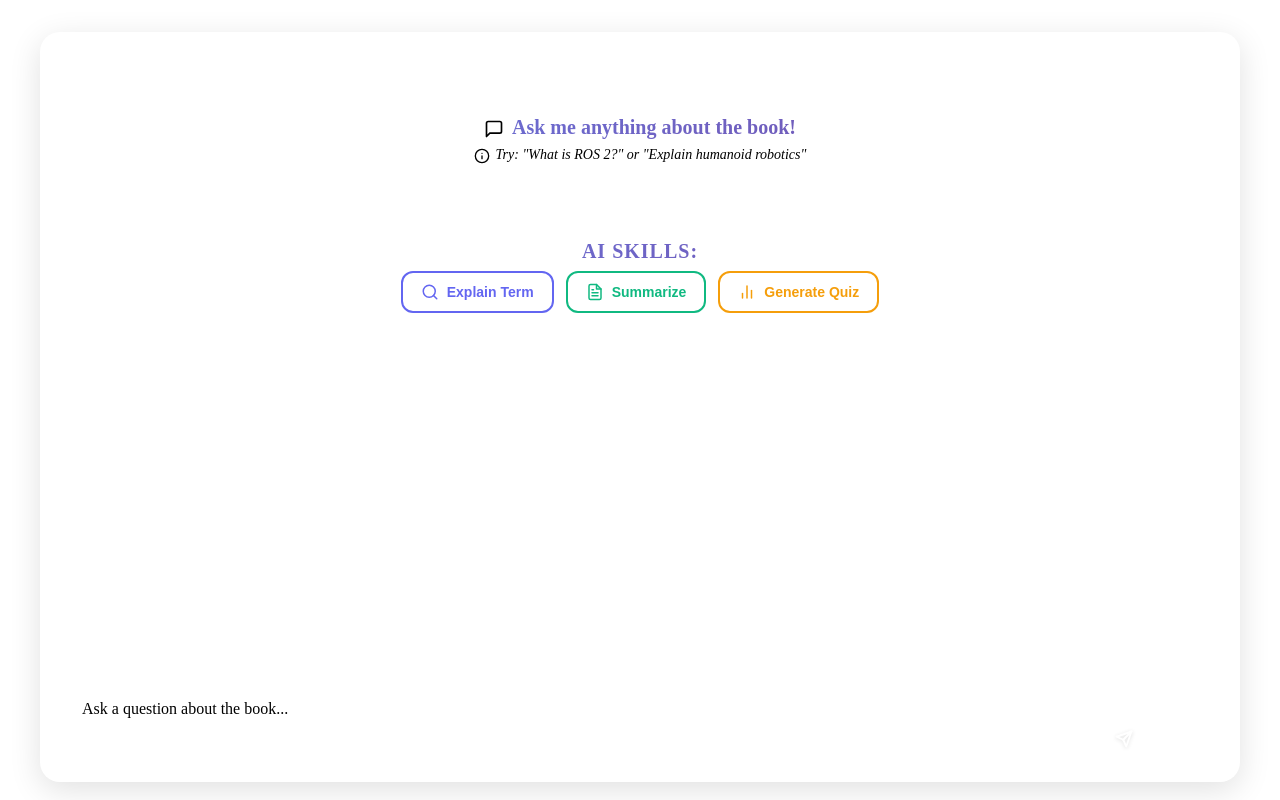
Chatbot Component › Response Handling › displays bot response after receiving answer
In the text box with placeholder "Ask a question about the book...": (568, 722) [64,682,1073,762], type "What is ROS 2?"
Then press Enter
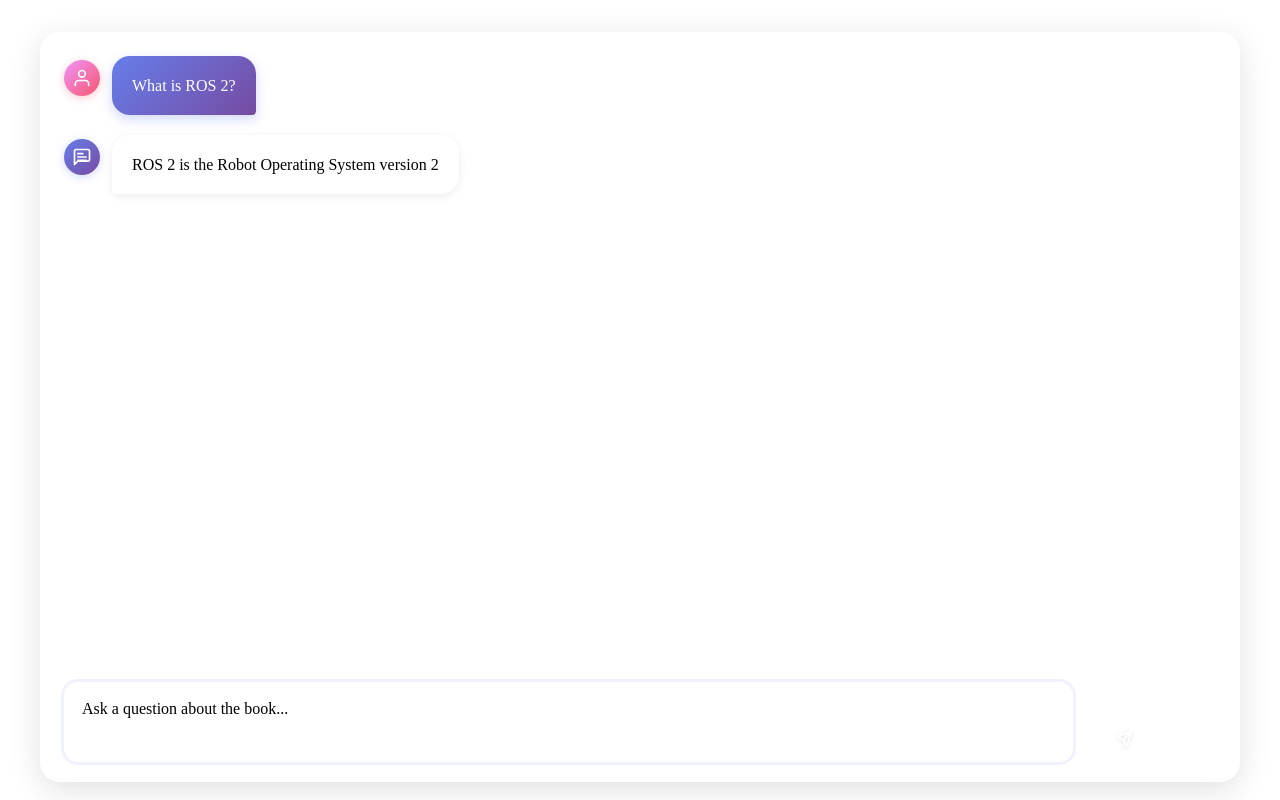
expect the text "ROS 2 is the Robot Operating System version 2" is shown: met, box [132,151,439,178]
